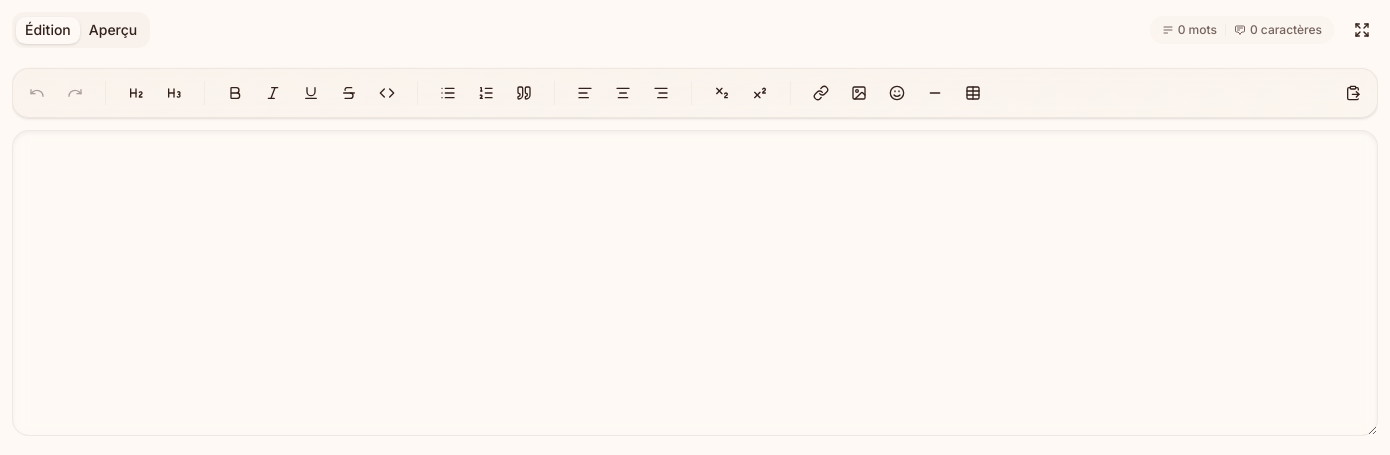
ArticleContentEditor › inserts H2 heading at the start of the line
Step 1. Type "Mon article" into the text box → (695, 283), box top-left (12, 130), bottom-right (1378, 436)
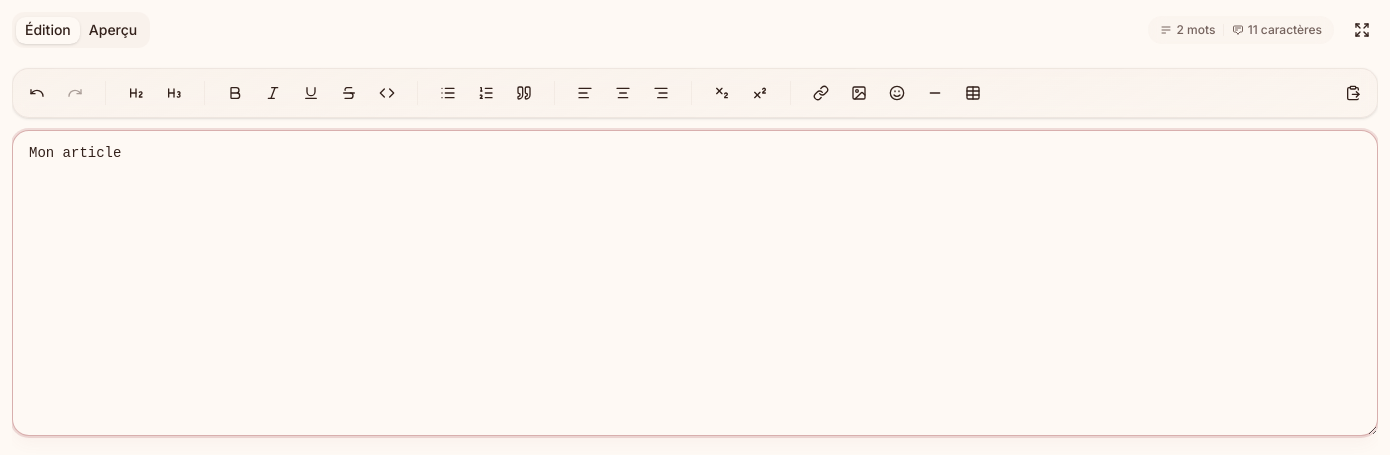
Step 2. Click the button titled "Titre (H2)" → (136, 93), box top-left (120, 77), bottom-right (152, 109)
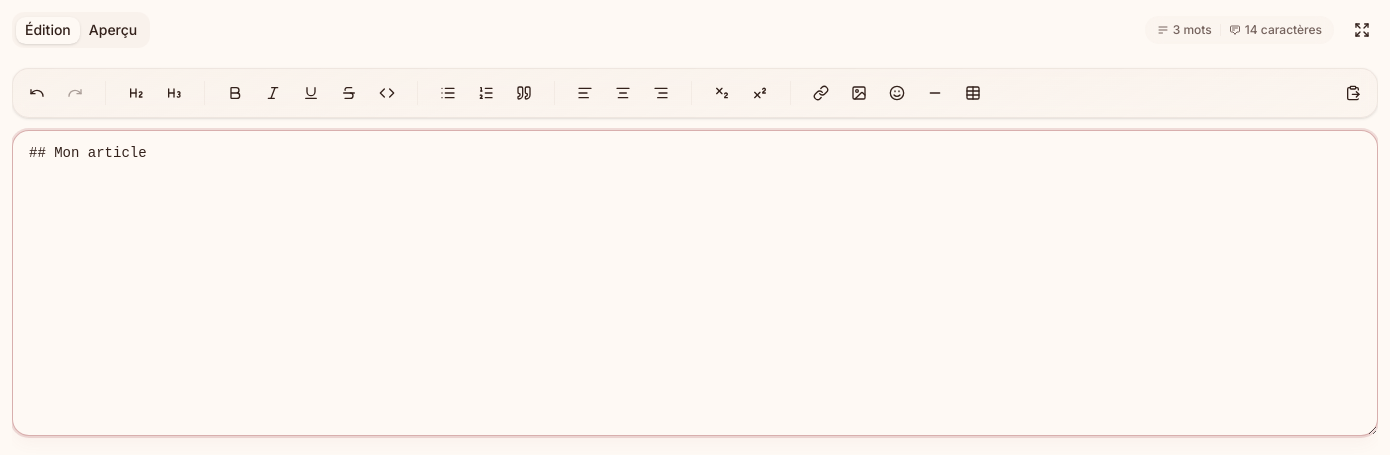
Result: the text box holds "## Mon article"
